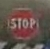stop: (6, 7, 39, 40)
